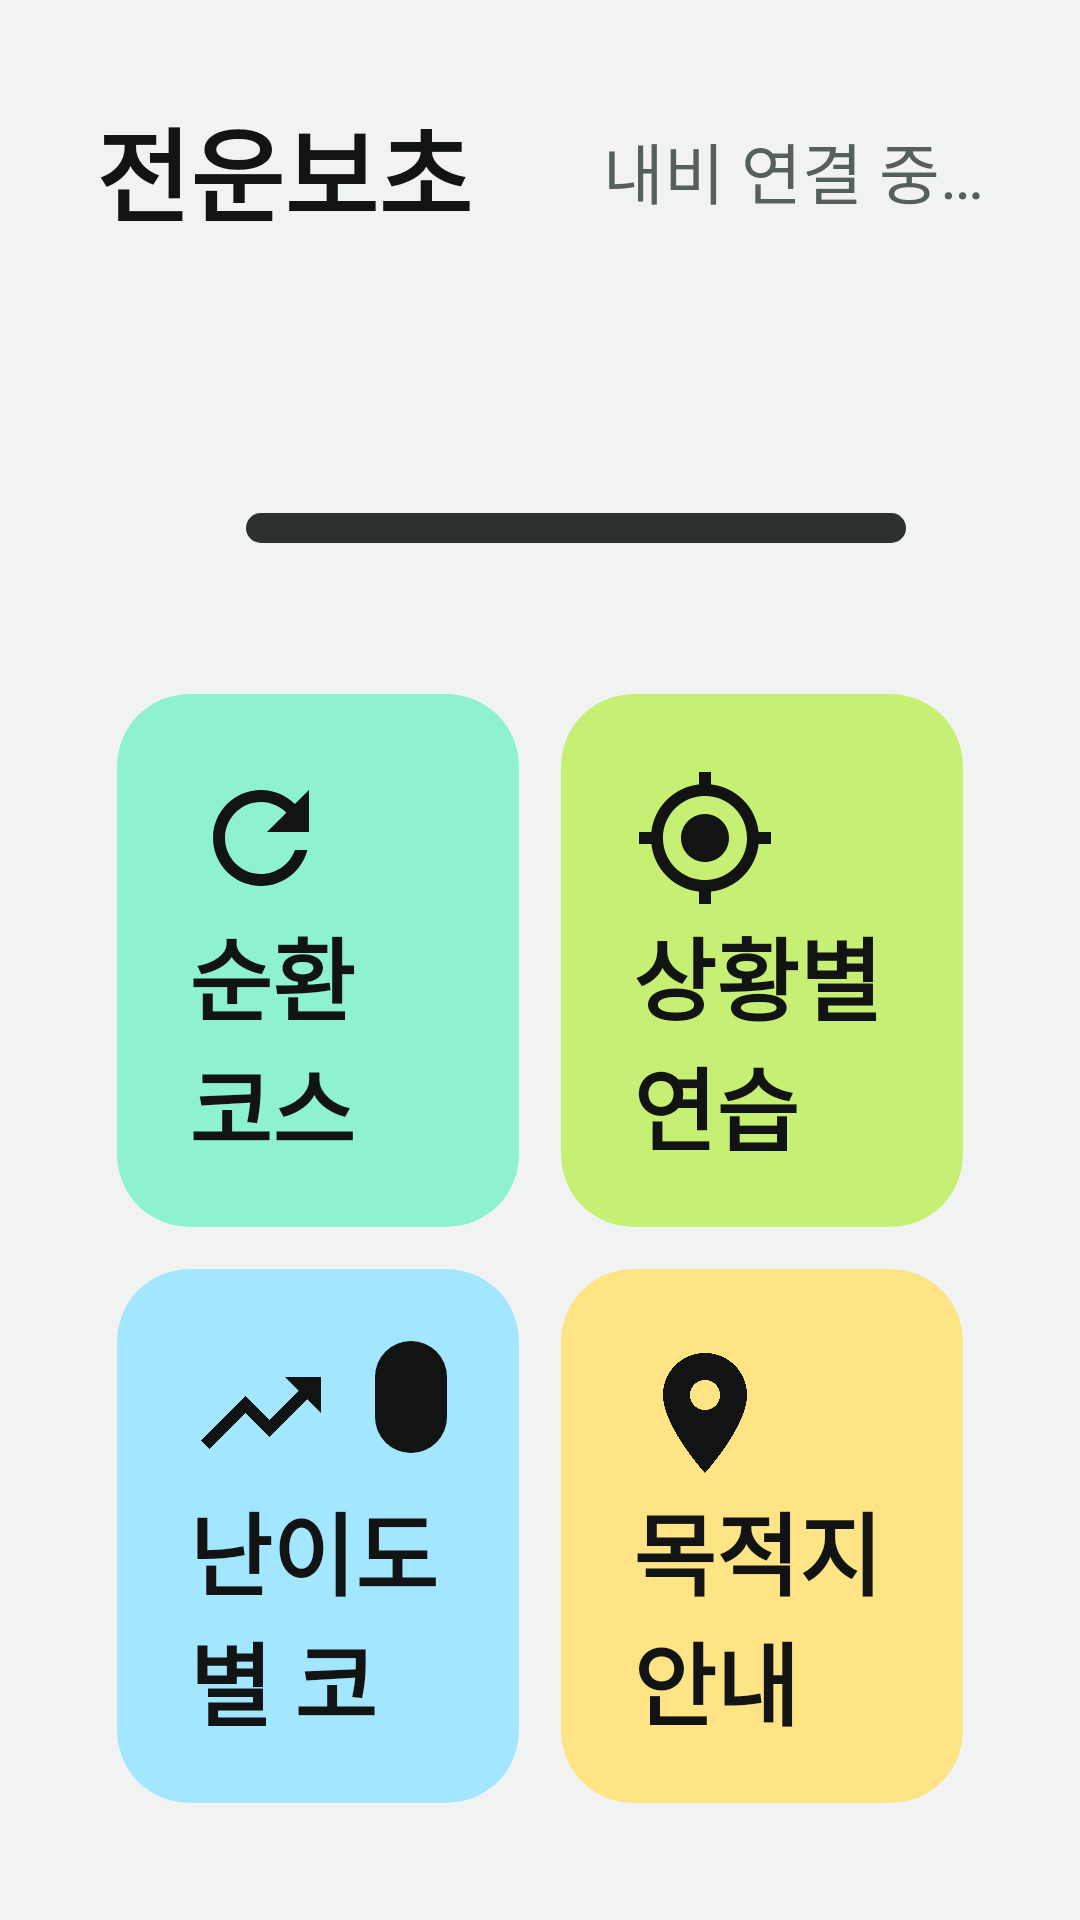

Named icons in this screenshot (1080*1920) and their bounding boxes, (x1, y1, x2, y2):
level up: (201, 1377, 321, 1449)
loop: (213, 790, 309, 886)
place: (663, 1353, 747, 1473)
target: (639, 772, 771, 904)
